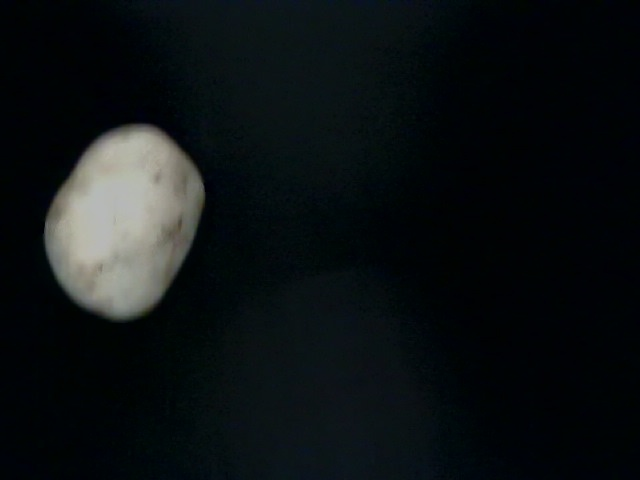QTLJ: (4, 161, 236, 472)
